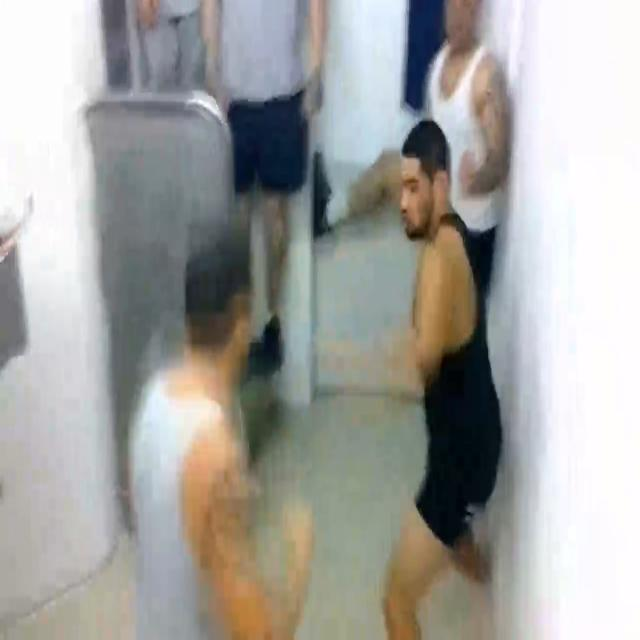fight: (131, 119, 489, 640)
